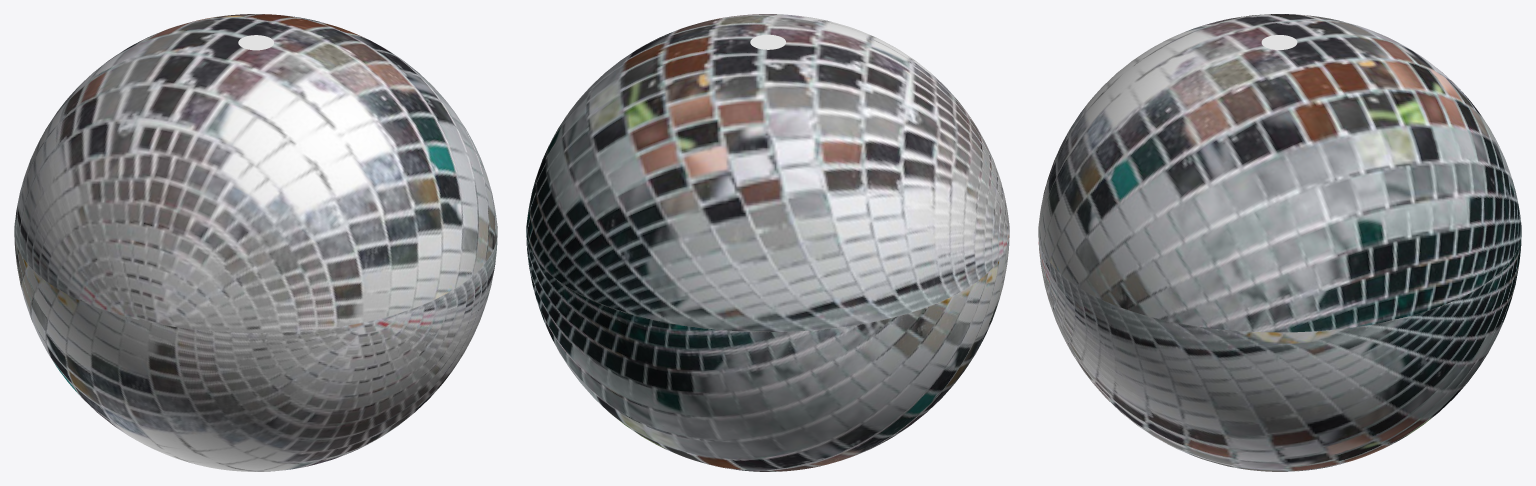
Rendered from DiscoBall.dae.
3 views of the same model, side by side, from view 1: azimuth 30°, elevation 25°; view 2: azimuth 150°, elevation 25°; view 3: azimuth 270°, elevation 25° (orthographic).
Visible parts, largest first — view 1: dance_Body 53; view 2: dance_Body 53; view 3: dance_Body 53.
Part boxes in pixels (x1,y1,x2,y2): dance_Body 53: [14, 14, 497, 471]; dance_Body 53: [526, 14, 1009, 471]; dance_Body 53: [1038, 14, 1521, 471].
Bounding box in the file's own units: 0.1778 × 0.1778 × 0.1651.
Materials: 1 (1 with a texture image).
